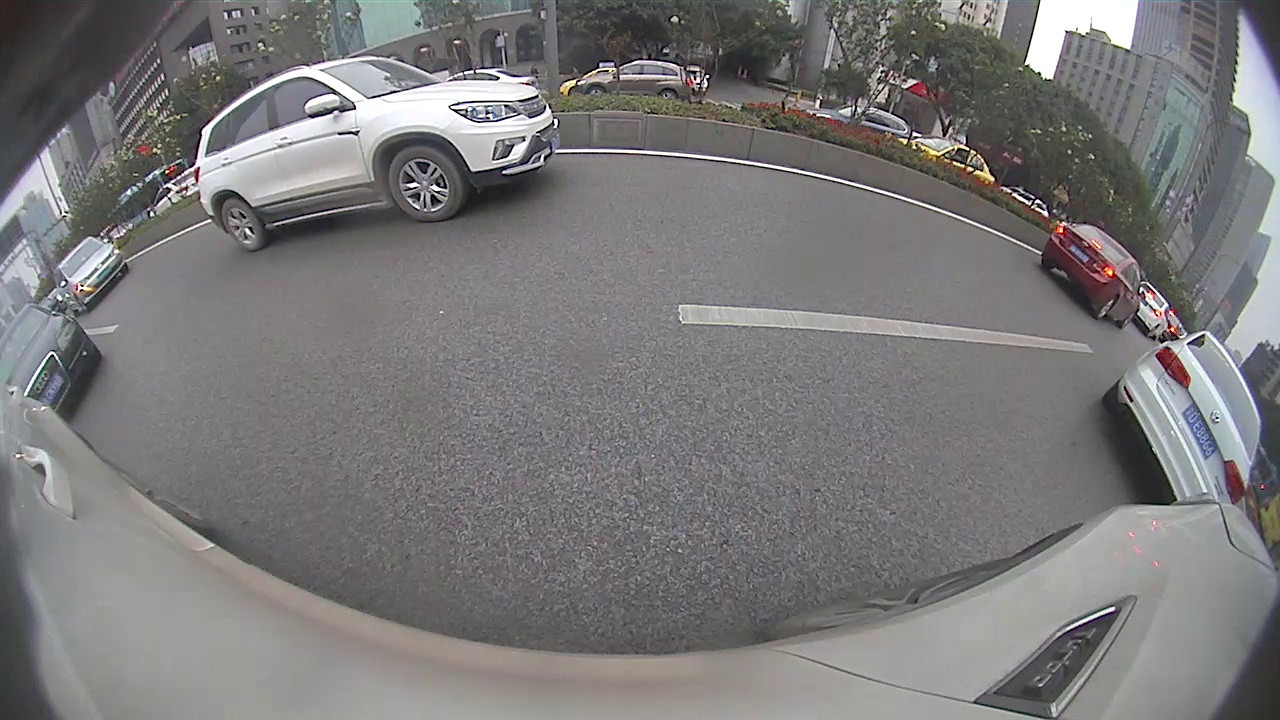car: (192, 53, 561, 254), (1100, 328, 1263, 510), (0, 297, 103, 414), (1038, 221, 1147, 328), (50, 235, 131, 316), (574, 58, 695, 102)
front: (390, 148, 461, 220), (586, 84, 607, 102)
rear: (220, 197, 262, 253), (1095, 293, 1119, 321), (659, 89, 679, 108)
